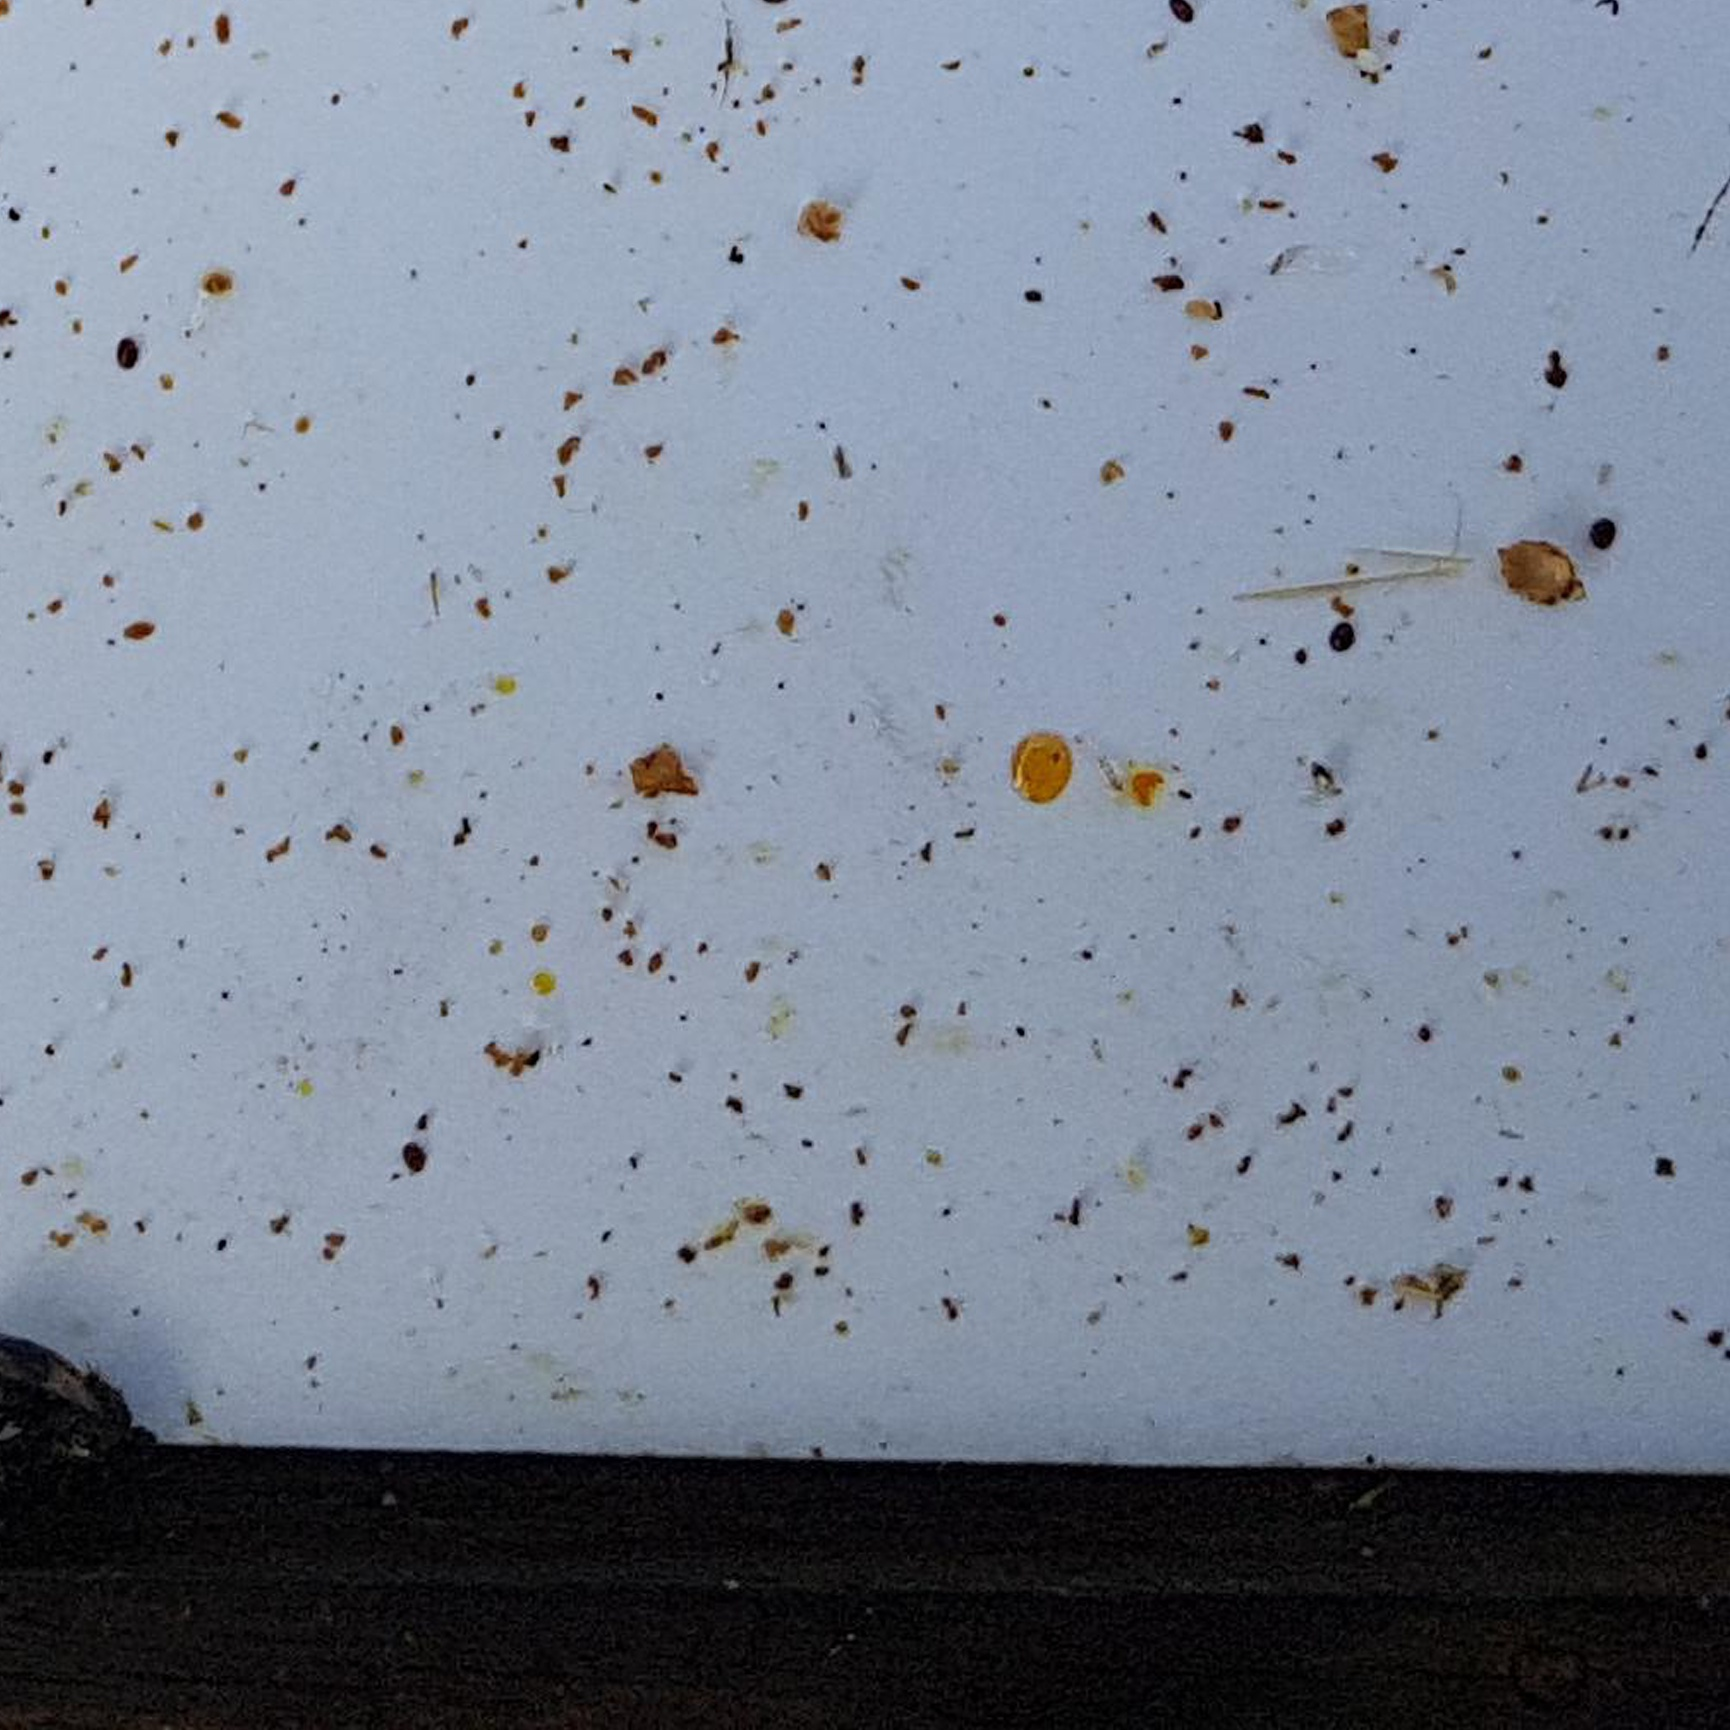Varroa: (1586, 520, 1621, 558), (112, 341, 146, 375), (1321, 626, 1355, 659), (399, 1142, 432, 1176)
